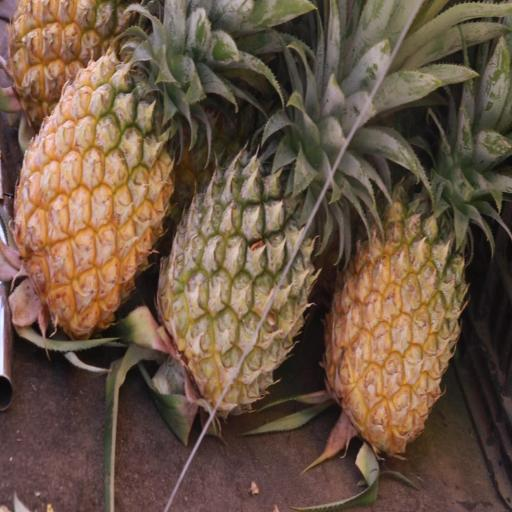Pineapple - v8 v1: (9, 0, 177, 350), (314, 91, 468, 466)
